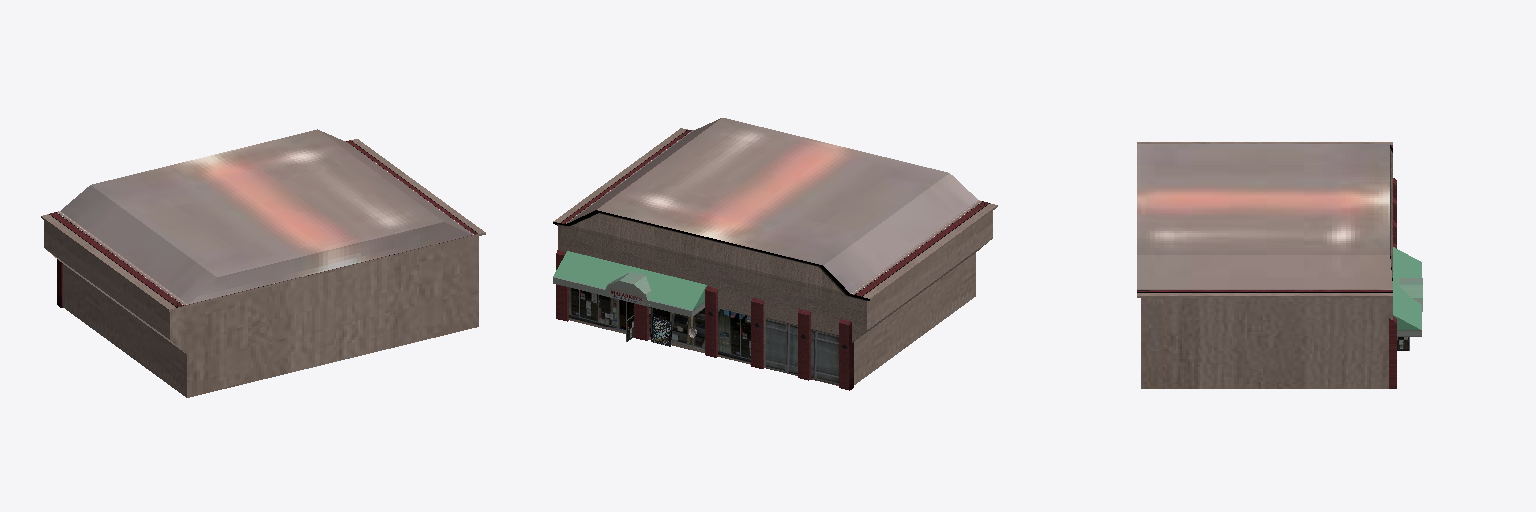
3 renders of one model, left to right at view 1: azimuth 30°, elevation 25°; view 2: azimuth 150°, elevation 25°; view 3: azimuth 270°, elevation 25°, orthographic.
Size of the model in its own units: 19.27 by 6.72 by 15.05.
1 materials, 1 textured.